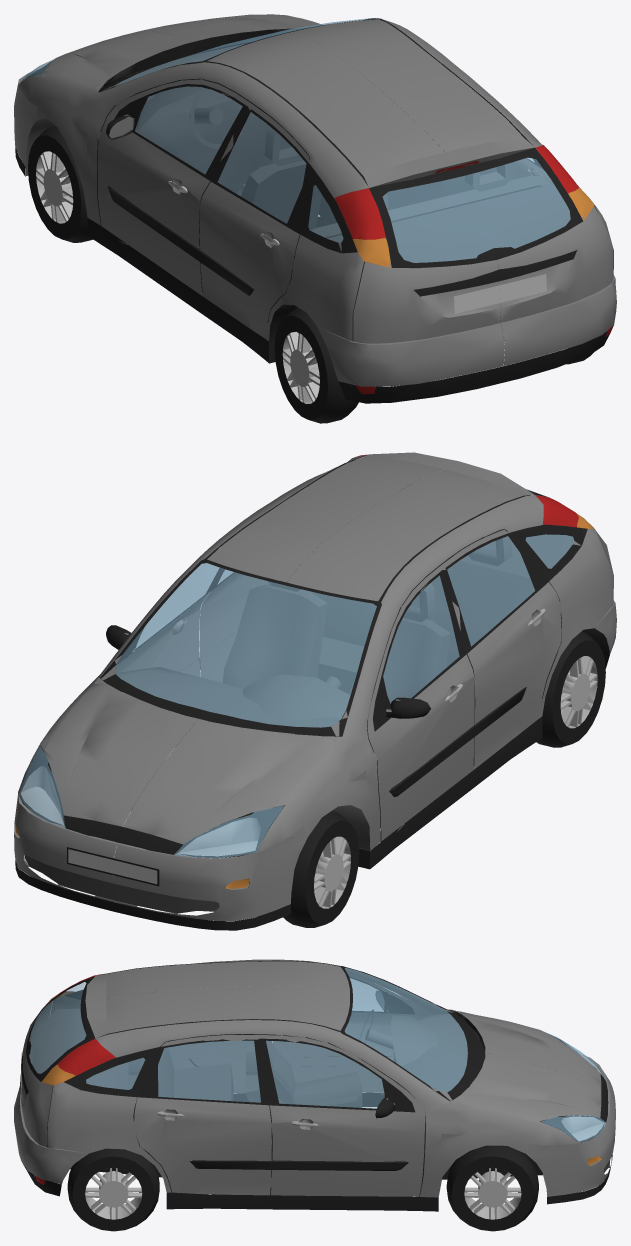
Rendered from che1_d.glb.
3 renders of one model, top to bottom at view 1: azimuth 30°, elevation 25°; view 2: azimuth 150°, elevation 25°; view 3: azimuth 270°, elevation 25°, orthographic. The views are drawn at different scales.
Visible parts, largest first — view 1: Group#75 (×2), Group#82, Group#79 (×2); view 2: Group#75 (×2), Group#82, Group#79 (×2); view 3: Group#75 (×2), Group#82.
Part boxes in pixels (x1,y1,x2,y2): Group#75 (×2): [14, 14, 616, 423]; Group#82: [136, 78, 245, 148]; Group#79 (×2): [264, 127, 512, 191]; Group#75 (×2): [14, 452, 616, 930]; Group#82: [242, 674, 350, 720]; Group#79 (×2): [401, 529, 512, 622]; Group#75 (×2): [14, 959, 615, 1231]; Group#82: [359, 1009, 437, 1065].
Size of the model in its own units: 2.07 by 1.57 by 4.36.
